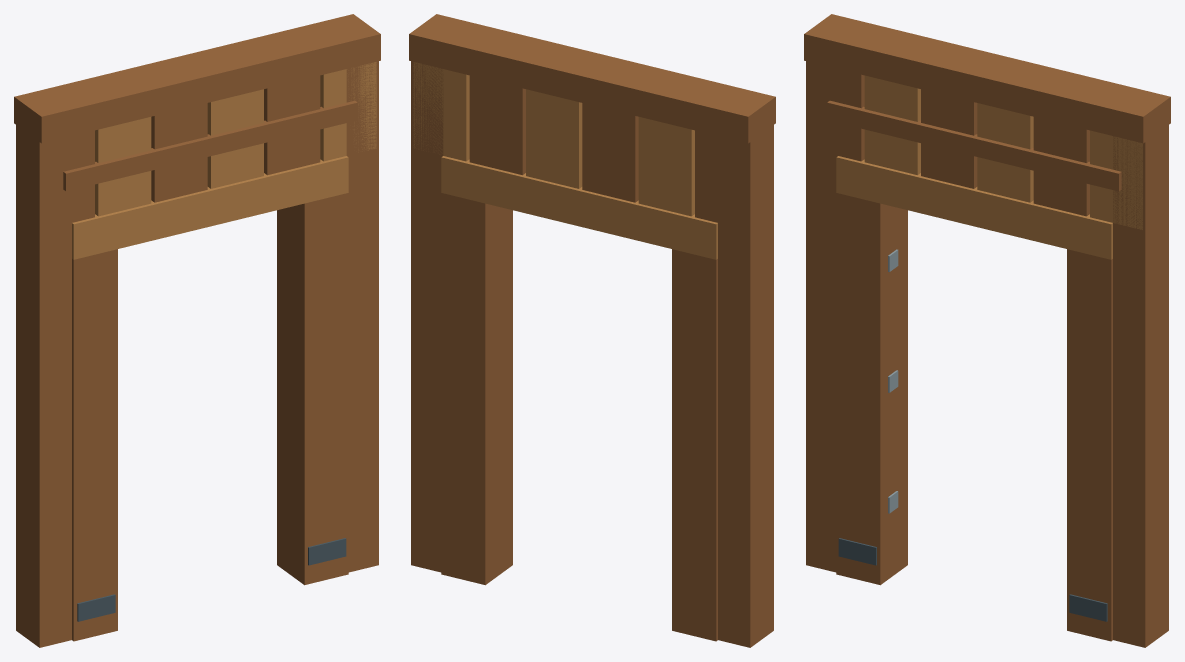
File: door_wood_frame.glb
3 views of the same model, side by side, from view 1: azimuth 30°, elevation 25°; view 2: azimuth 150°, elevation 25°; view 3: azimuth 330°, elevation 25° (orthographic).
Parts seen in each view (by area): view 1: Infill_0, Jamb_1, Top_Plate, Jamb_0, Infill_1, Header, Board_Batten, Board_0, Board_3, Board_2, Board_4, Board_1 (+3 smaller); view 2: Infill_0, Jamb_1, Top_Plate, Jamb_0, Infill_1, Header, Board_3, Board_2, Board_1, Board_4, Board_0, Board_5; view 3: Infill_1, Jamb_0, Top_Plate, Jamb_1, Infill_0, Header, Board_Batten, Board_5, Board_2, Board_3, Board_1, Board_4 (+3 smaller).
Boxes of the visible parts, x1,y1,x2,y2 form: Infill_0: (16,90,71,647); Jamb_1: (277,193,348,585); Top_Plate: (14,14,380,143); Jamb_0: (72,249,117,641); Infill_1: (323,15,378,572); Header: (72,156,348,259); Board_Batten: (63,100,357,191); Board_0: (42,130,94,229); Board_3: (207,89,263,188); Board_2: (151,103,207,202); Board_4: (264,75,320,175); Board_1: (95,117,151,216); Infill_0: (718,90,773,647); Jamb_1: (441,193,512,585); Top_Plate: (409,14,775,143); Jamb_0: (672,249,717,641); Infill_1: (411,15,466,572); Header: (441,156,717,259); Board_3: (526,89,582,188); Board_2: (582,103,638,202); Board_1: (638,117,694,216); Board_4: (469,75,525,175); Board_0: (695,130,747,229); Board_5: (413,62,469,161); Infill_1: (1113,90,1168,647); Jamb_0: (836,193,907,585); Top_Plate: (804,14,1170,143); Jamb_1: (1067,249,1112,641); Infill_0: (806,15,861,572); Header: (836,156,1112,259); Board_Batten: (827,100,1121,191); Board_5: (1090,130,1142,229); Board_2: (921,89,977,188); Board_3: (977,103,1033,202); Board_1: (864,75,920,175); Board_4: (1033,117,1089,216).
Bounding box in the file's own units: 2 × 3 × 0.29.
